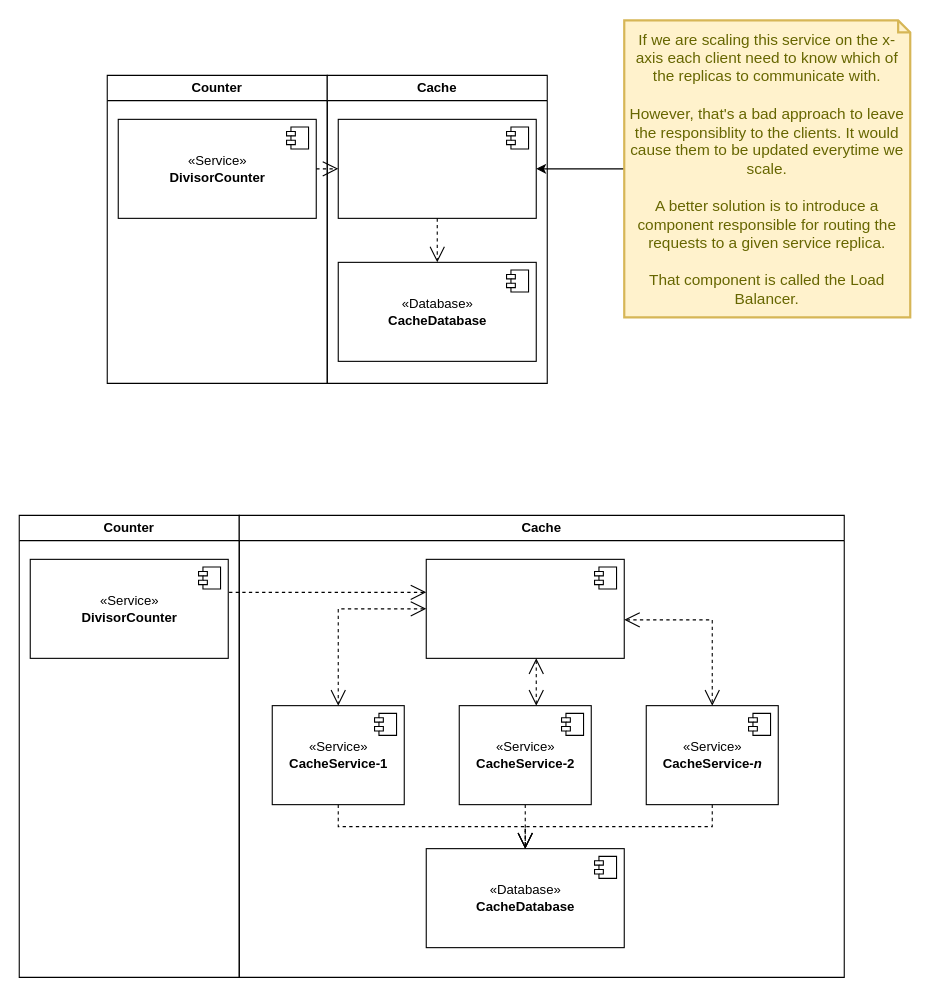
Some shapes in this 931 by 997 pixel diagram are drawn without their labels. Each missing label, with the centre of its shape:
«API» LoadBalancer: the point at 524,608
«Service» CacheService: the point at 436,168
